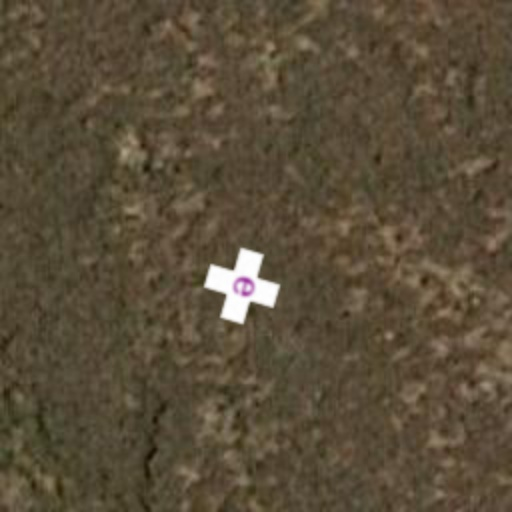cross: (196, 240, 288, 332)
